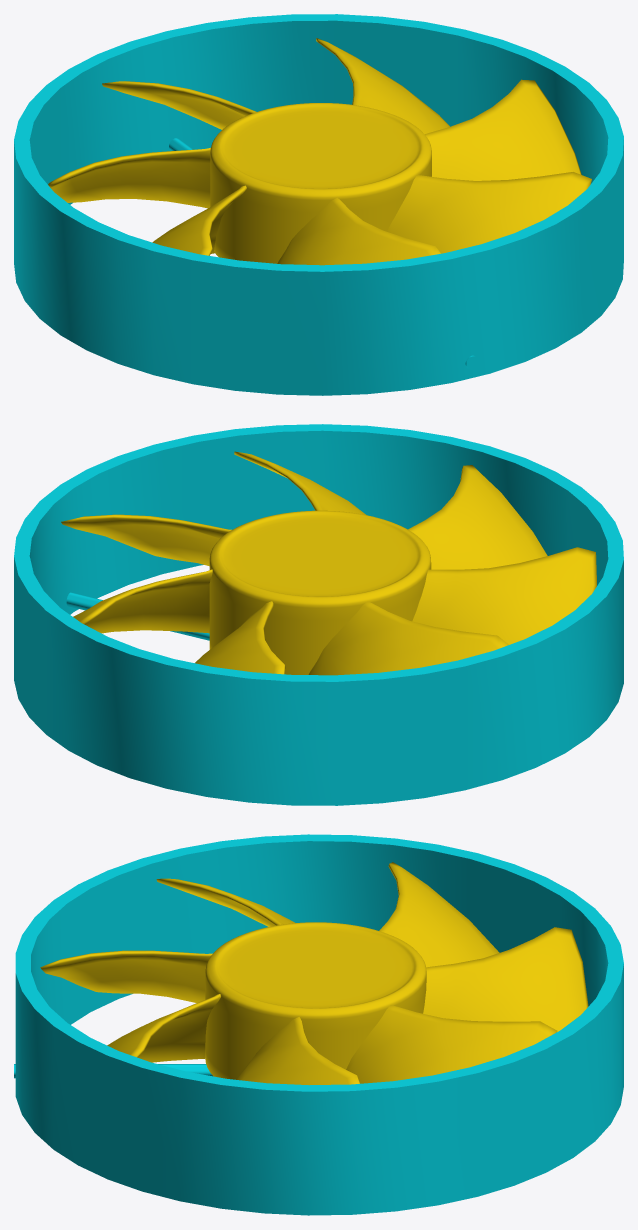
The model's file is Wind_Fan.fbx.
3 views of the same model, one above another, from view 1: azimuth 30°, elevation 25°; view 2: azimuth 150°, elevation 25°; view 3: azimuth 270°, elevation 25° (orthographic).
Parts seen in each view (by area): view 1: 0.002, wings_Plane; view 2: 0.002, wings_Plane; view 3: 0.002, wings_Plane.
Part boxes in pixels (box(x1,y1,x2,y2)): 0.002: box(14, 14, 623, 395); wings_Plane: box(48, 38, 591, 265); 0.002: box(14, 424, 623, 805); wings_Plane: box(61, 451, 596, 675); 0.002: box(15, 834, 623, 1215); wings_Plane: box(40, 862, 588, 1085).
Bounding box in the file's own units: 556 × 172 × 557.
